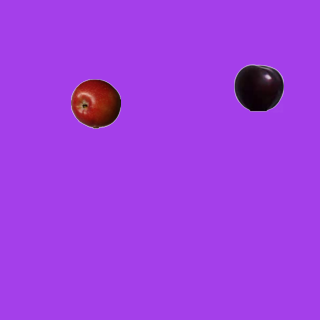Apple Braeburn: (70, 78, 120, 128)
Cherry Wax Black: (233, 62, 283, 112)
